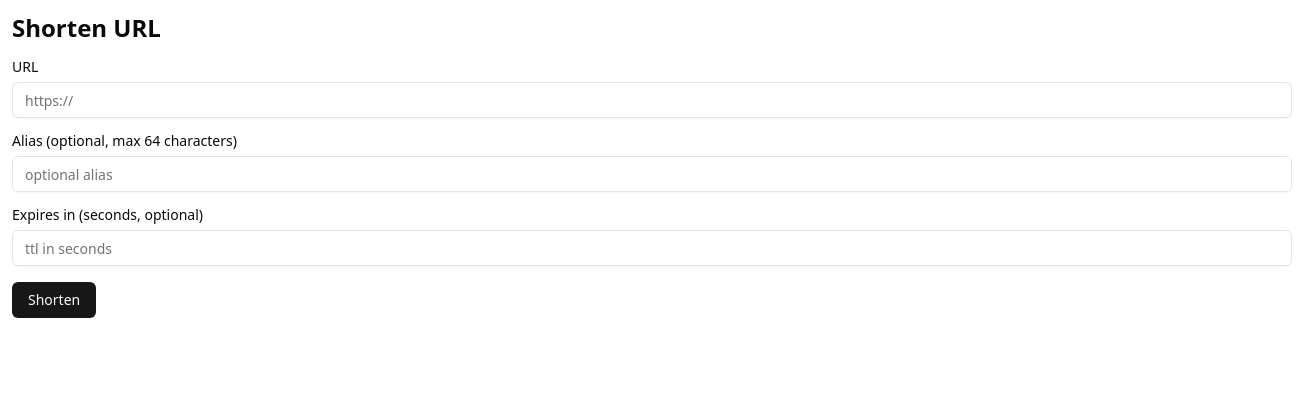
Test: HomePage › empty alias is omitted from payload
In the field labelled "URL": (652, 100) [12,82,1292,118], type "https://example.com"
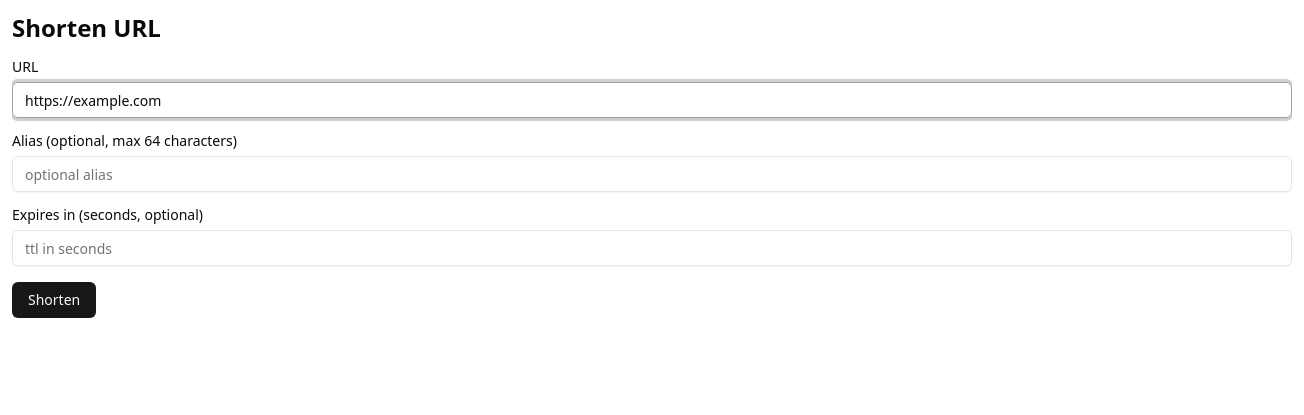
Click the button "Shorten": (54, 300) [12,282,96,318]
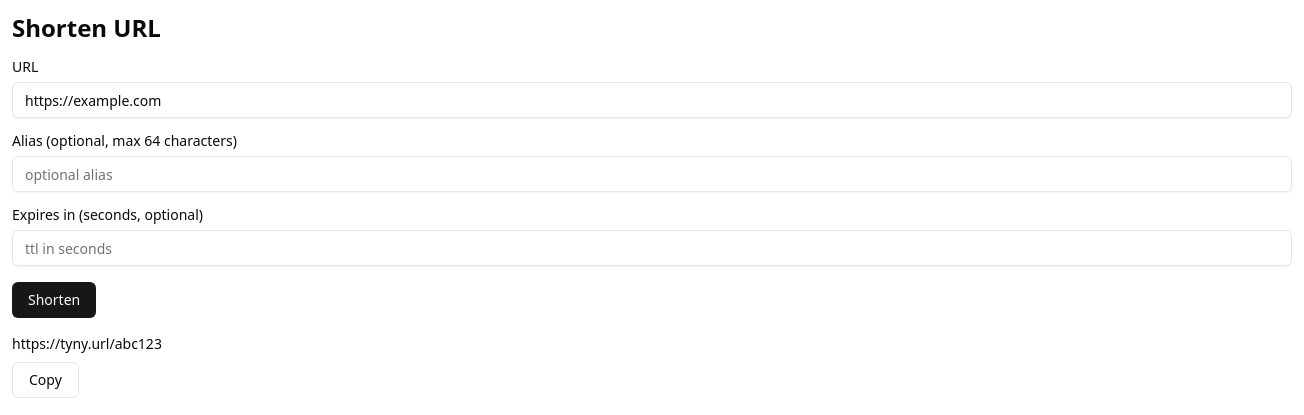
Now the text "https://tyny.url/abc123" is shown, box [12,334,162,353]
